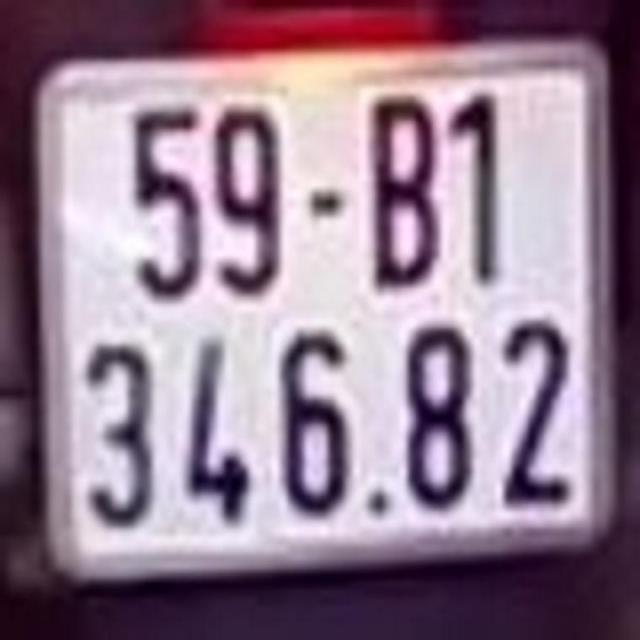1: (449, 76, 530, 287)
2: (494, 292, 581, 506)
3: (75, 336, 165, 527)
4: (181, 335, 259, 530)
5: (117, 88, 207, 306)
6: (270, 319, 356, 526)
8: (398, 304, 480, 519)
9: (204, 91, 290, 303)
B: (360, 83, 444, 284)
